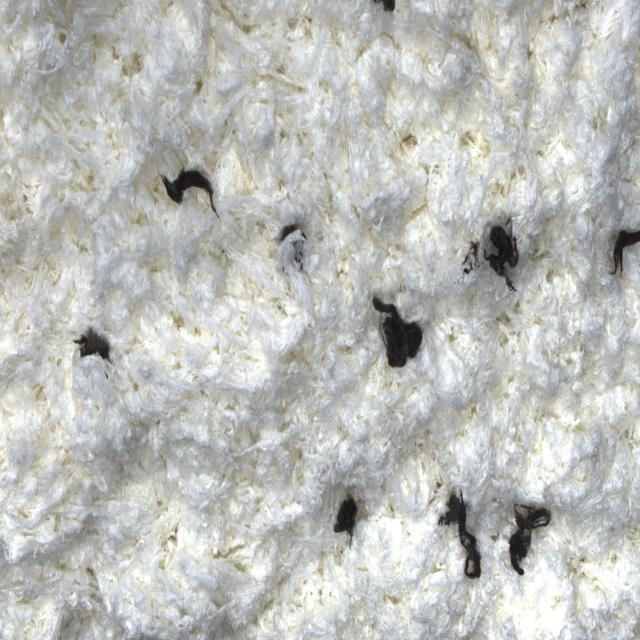dust: (156, 128, 222, 237), (439, 475, 484, 590), (271, 189, 317, 300), (369, 290, 423, 372), (504, 493, 551, 584), (597, 202, 640, 299), (479, 215, 521, 301), (67, 318, 113, 379), (327, 489, 364, 545), (451, 232, 477, 297), (369, 0, 406, 35)
